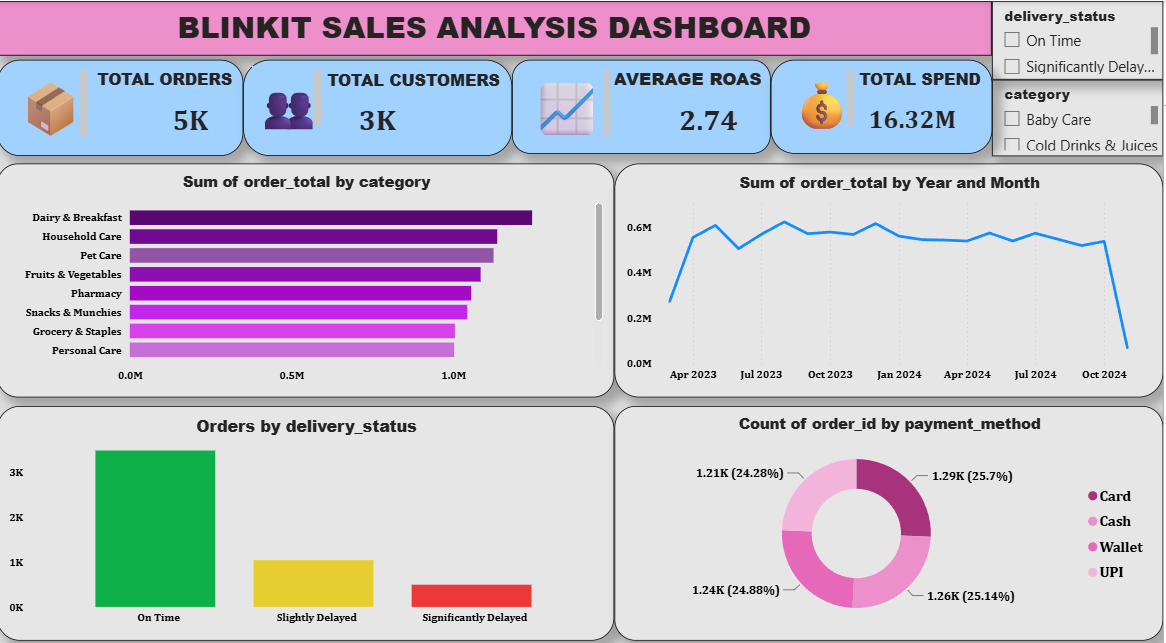

Layout of this report page (visuals, bound fields, positions):
{"tool":"powerbi","page":{"name":"Page 1","canvas":[1920,1080],"ordinal":0},"visuals":[{"type":"textbox","box":[0,0,1920.4,132.4],"z":0},{"type":"cardVisual","title":"TOTAL ORDERS","fields":{"Data":["blinkit_orders.Total Order"]},"box":[213.8,132.4,268.8,118.1],"z":1000},{"type":"cardVisual","title":"TOTAL CUSTOMERS","fields":{"Data":["blinkit_customers.Total Customers"]},"box":[482.6,132.4,262.7,118.1],"z":2000},{"type":"textbox","box":[509.1,169,71.3,67.2],"z":3000},{"type":"cardVisual","title":"AVERAGE ROAS","fields":{"Data":["blinkit_marketing_performance.Total ROAS"]},"box":[745.4,132.4,270.9,118.1],"z":4000},{"type":"textbox","box":[775.9,169,67.2,67.2],"z":5000},{"type":"slicer","fields":{"Values":["blinkit_products.category"]},"box":[0,132.4,213.8,277],"z":6000},{"type":"slicer","fields":{"Values":["blinkit_orders.delivery_status"]},"box":[0,407.3,213.8,130.3],"z":7000},{"type":"clusteredBarChart","title":" Order by category","fields":{"Category":["blinkit_products.category"],"Y":["Sum(blinkit_orders.order_total)"]},"box":[1276.9,132.4,643.5,285.1],"z":8000},{"type":"clusteredColumnChart","title":" Orders by Delivery_status","fields":{"Category":["blinkit_orders.delivery_status"],"Y":["blinkit_orders.Total Order"]},"box":[213.8,250.5,659.8,207.7],"z":9000},{"type":"areaChart","title":"Monthly Sales Trend","fields":{"Category":["blinkit_orders.order_date.Variation.Date Hierarchy.Year","blinkit_orders.order_date.Variation.Date Hierarchy.Month"],"Y":["Sum(blinkit_orders.order_total)"]},"box":[213.8,458.2,596.7,293.3],"z":10000},{"type":"donutChart","title":"order_id by payment_method","fields":{"Category":["blinkit_orders.payment_method"],"Y":["CountNonNull(blinkit_orders.order_id)"]},"box":[873.7,250.5,403.2,207.7],"z":11000},{"type":"cardVisual","title":"TOTAL SPEND","fields":{"Data":["blinkit_marketing_performance.Marketing Spend"]},"box":[1016.2,132.4,260.7,118.1],"z":12000},{"type":"textbox","box":[1032.5,169,65.2,67.2],"z":13000},{"type":"waterfallChart","fields":{"Category":["blinkit_marketing_performance.target_audience"],"Y":["Sum(blinkit_marketing_performance.spend)"]},"box":[1276.9,417.5,643.5,334],"z":14000},{"type":"lineClusteredColumnComboChart","title":"Categories by Margin %","fields":{"Category":["blinkit_products.margin_percentage"],"Y":["Count(blinkit_products.category)"]},"box":[810.5,458.2,466.4,293.3],"z":15000},{"type":"treemap","title":"Marketing spend by campaign_name","fields":{"Values":["Sum(blinkit_marketing_performance.spend)"],"Group":["blinkit_marketing_performance.campaign_name"]},"box":[213.8,751.5,647.6,327.9],"z":16000},{"type":"slicer","fields":{"Values":["blinkit_marketing_performance.target_audience"]},"box":[0,539.7,213.8,150.7],"z":17000},{"type":"slicer","fields":{"Values":["blinkit_marketing_performance.channel"]},"box":[0,690.4,213.8,150.7],"z":18000},{"type":"tableEx","title":"Top Performing Products","fields":{"Values":["blinkit_products.product_name","blinkit_products.category","blinkit_products.margin_percentage","Sum(blinkit_orders.blinkit_order_items.unit_price)"]},"box":[861.4,751.5,621.1,327.9],"z":19000},{"type":"actionButton","box":[0,0,100,40],"z":20000},{"type":"textbox","box":[0,860,187,220],"z":21000},{"type":"textbox","box":[50.9,20.4,258.6,93.7],"z":22000},{"type":"shape","box":[1847.1,0,73.3,132.4],"z":23000},{"type":"textbox","box":[336,20.4,12.2,93.7],"z":24000},{"type":"textbox","box":[376.8,20.4,720.9,112],"z":25000},{"type":"textbox","box":[1466.3,20.4,93.7,93.7],"z":26000},{"type":"textbox","box":[1560,20.4,254.6,93.7],"z":27000},{"type":"textbox","box":[0,841.1,213.8,238.3],"z":28000},{"type":"textbox","box":[30.5,942.9,136.4,122.2],"z":29000},{"type":"textbox","box":[248.5,169,61.1,67.2],"z":30000},{"type":"textbox","box":[1482,751,438,328],"z":31000}]}

Visuals, with their boxes in screenshot pixels (x1, y1, x2, y2), scaled from the page's 1920x1080 canvas onto the 1166x643 screenshot:
textbox: box=[0, 0, 1165, 79]
"TOTAL ORDERS" cardVisual: box=[130, 79, 293, 149]
"TOTAL CUSTOMERS" cardVisual: box=[293, 79, 453, 149]
textbox: box=[309, 101, 352, 141]
"AVERAGE ROAS" cardVisual: box=[453, 79, 617, 149]
textbox: box=[471, 101, 512, 141]
slicer - blinkit_products.category: box=[0, 79, 130, 244]
slicer - blinkit_orders.delivery_status: box=[0, 242, 130, 320]
" Order by category" clusteredBarChart: box=[775, 79, 1165, 249]
" Orders by Delivery_status" clusteredColumnChart: box=[130, 149, 531, 273]
"Monthly Sales Trend" areaChart: box=[130, 273, 492, 447]
"order_id by payment_method" donutChart: box=[531, 149, 775, 273]
"TOTAL SPEND" cardVisual: box=[617, 79, 775, 149]
textbox: box=[627, 101, 667, 141]
waterfallChart - blinkit_marketing_performance.target_audience x Sum(blinkit_marketing_performance.spend): box=[775, 249, 1165, 447]
"Categories by Margin %" lineClusteredColumnComboChart: box=[492, 273, 775, 447]
"Marketing spend by campaign_name" treemap: box=[130, 447, 523, 642]
slicer - blinkit_marketing_performance.target_audience: box=[0, 321, 130, 411]
slicer - blinkit_marketing_performance.channel: box=[0, 411, 130, 501]
"Top Performing Products" tableEx: box=[523, 447, 900, 642]
actionButton: box=[0, 0, 61, 24]
textbox: box=[0, 512, 114, 642]
textbox: box=[31, 12, 188, 68]
shape: box=[1122, 0, 1165, 79]
textbox: box=[204, 12, 211, 68]
textbox: box=[229, 12, 667, 79]
textbox: box=[890, 12, 947, 68]
textbox: box=[947, 12, 1102, 68]
textbox: box=[0, 501, 130, 642]
textbox: box=[19, 561, 101, 634]
textbox: box=[151, 101, 188, 141]
textbox: box=[900, 447, 1165, 642]
